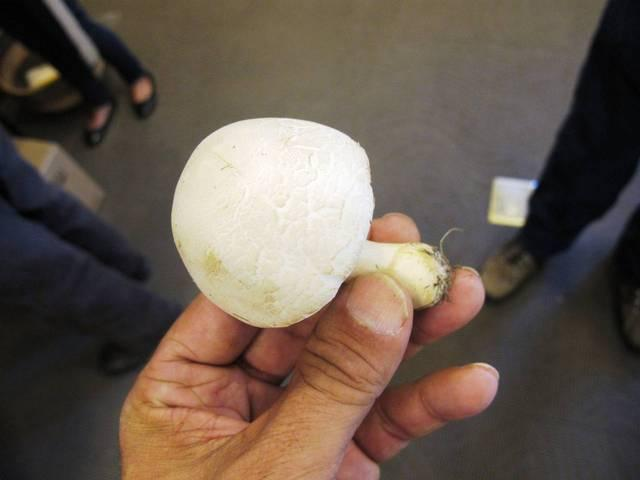poisonous_mushroom: (169, 115, 376, 328)
